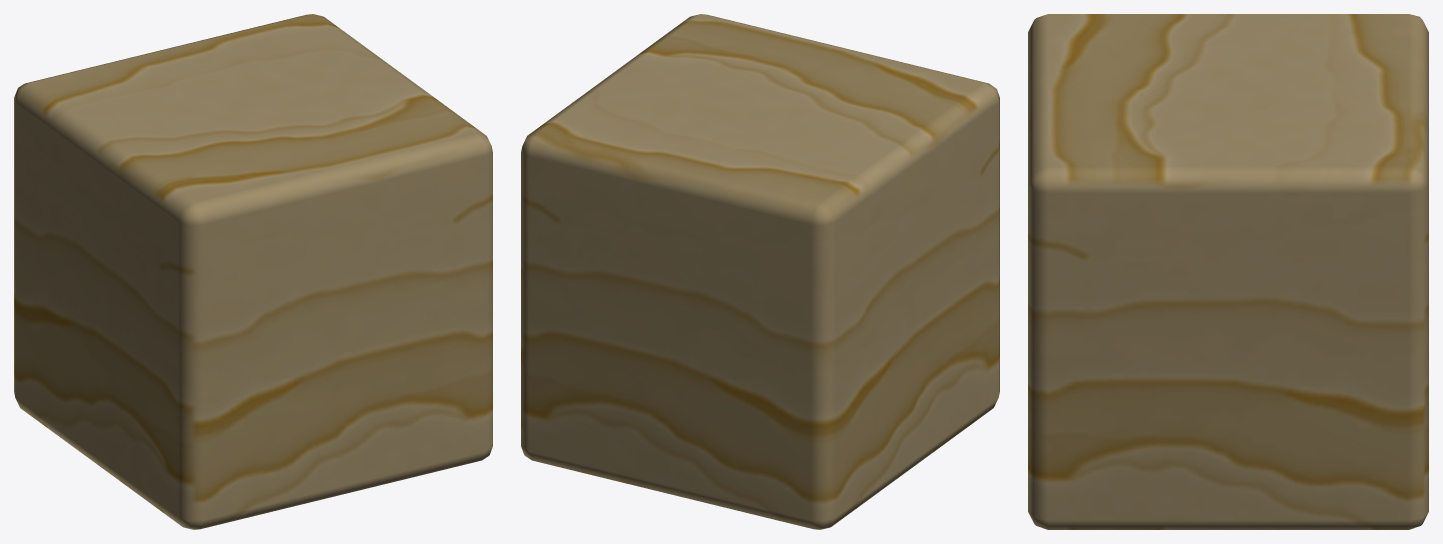
File: SM_Platform_1m_01_B.glb
The picture shows the model from 3 angles, left to right: view 1: azimuth 30°, elevation 25°; view 2: azimuth 150°, elevation 25°; view 3: azimuth 270°, elevation 25°; orthographic projection. The views are drawn at different scales.
Visible parts, largest first — view 1: SM_Platform_1m_01_B; view 2: SM_Platform_1m_01_B; view 3: SM_Platform_1m_01_B.
Boxes of the visible parts, x1,y1,x2,y2 form: SM_Platform_1m_01_B: (14, 14, 492, 529); SM_Platform_1m_01_B: (521, 14, 999, 529); SM_Platform_1m_01_B: (1028, 14, 1428, 529).
Bounding box in the file's own units: 1 × 1 × 1.
1 material, 1 textured.
